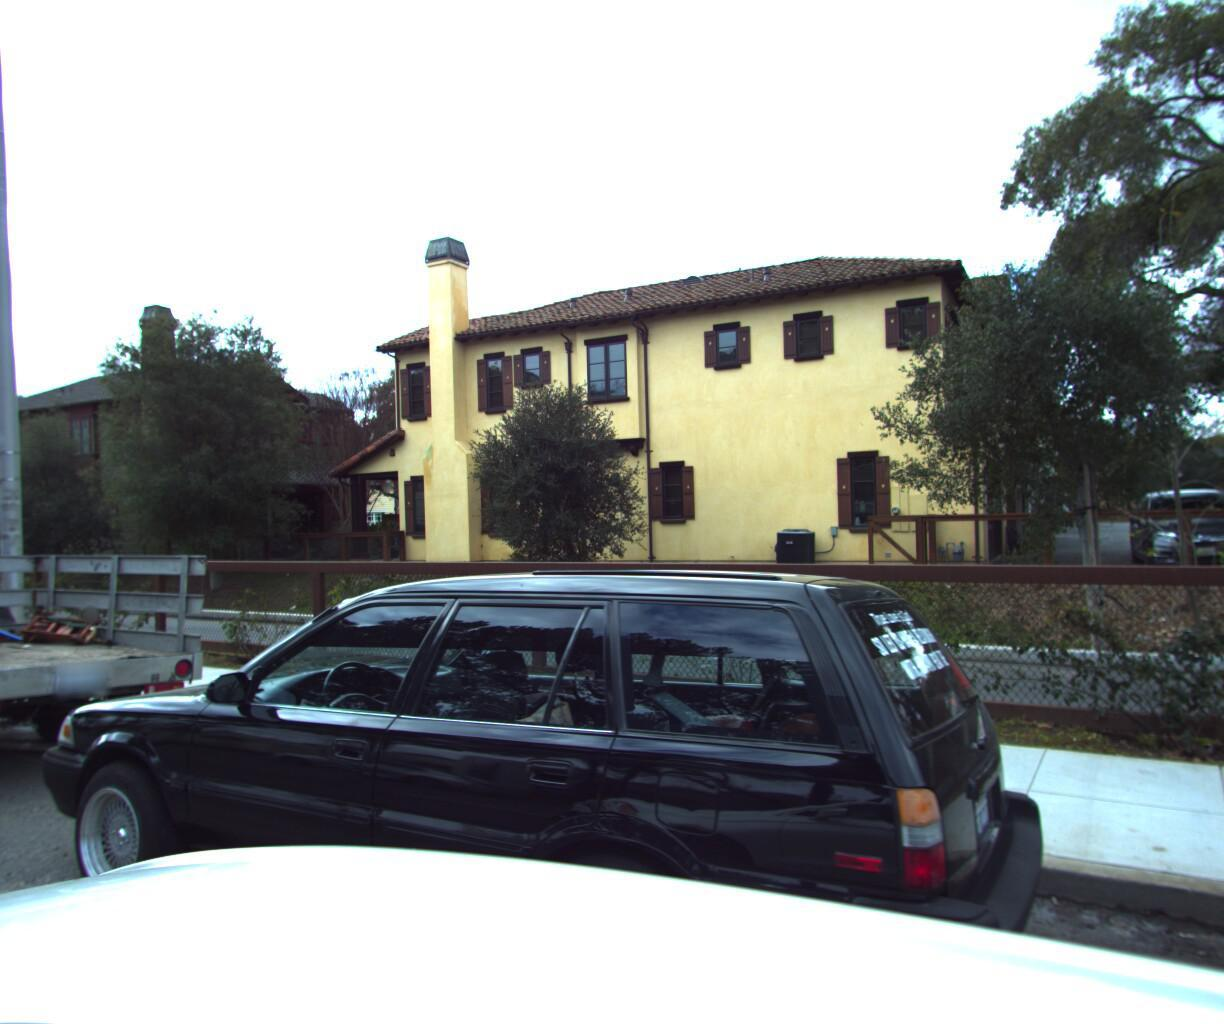car: (0, 540, 1053, 1024), (0, 534, 233, 826)
